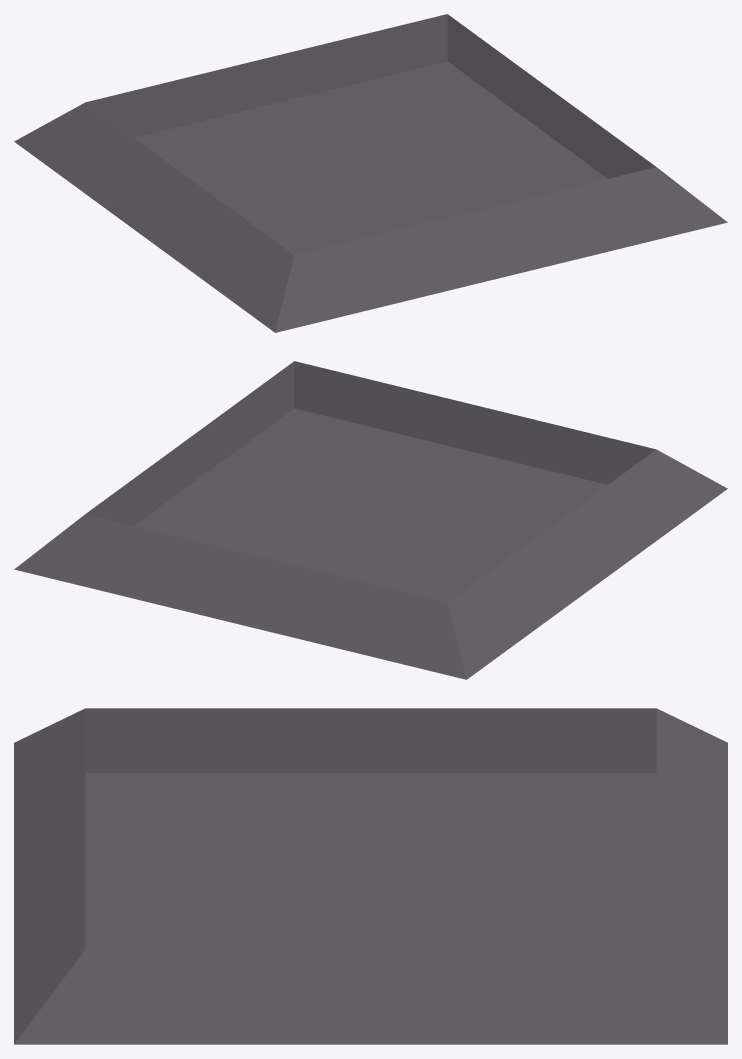
Rendered from SwitchCase.gltf.
3 views of the same model, one above another, from view 1: azimuth 30°, elevation 25°; view 2: azimuth 150°, elevation 25°; view 3: azimuth 270°, elevation 25° (orthographic). The views are drawn at different scales.
Size of the model in its own units: 1.25 by 0.1251 by 1.25.
1 material, 1 textured.
